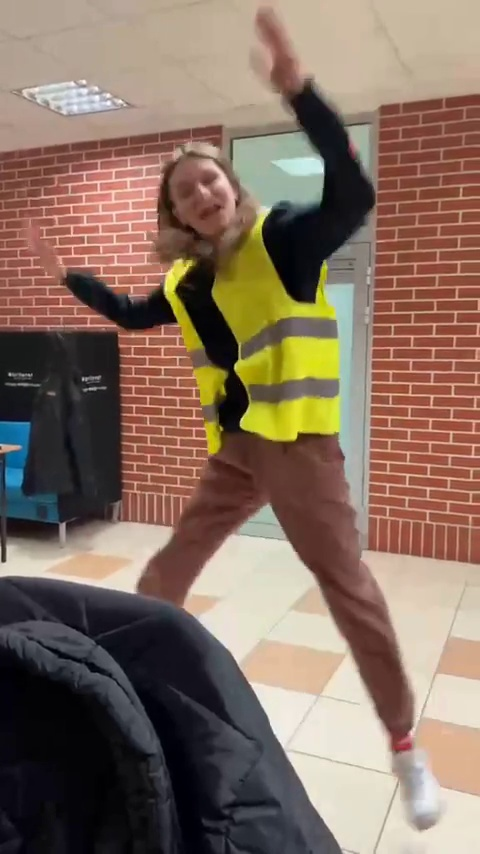vest: (103, 180, 446, 752)
